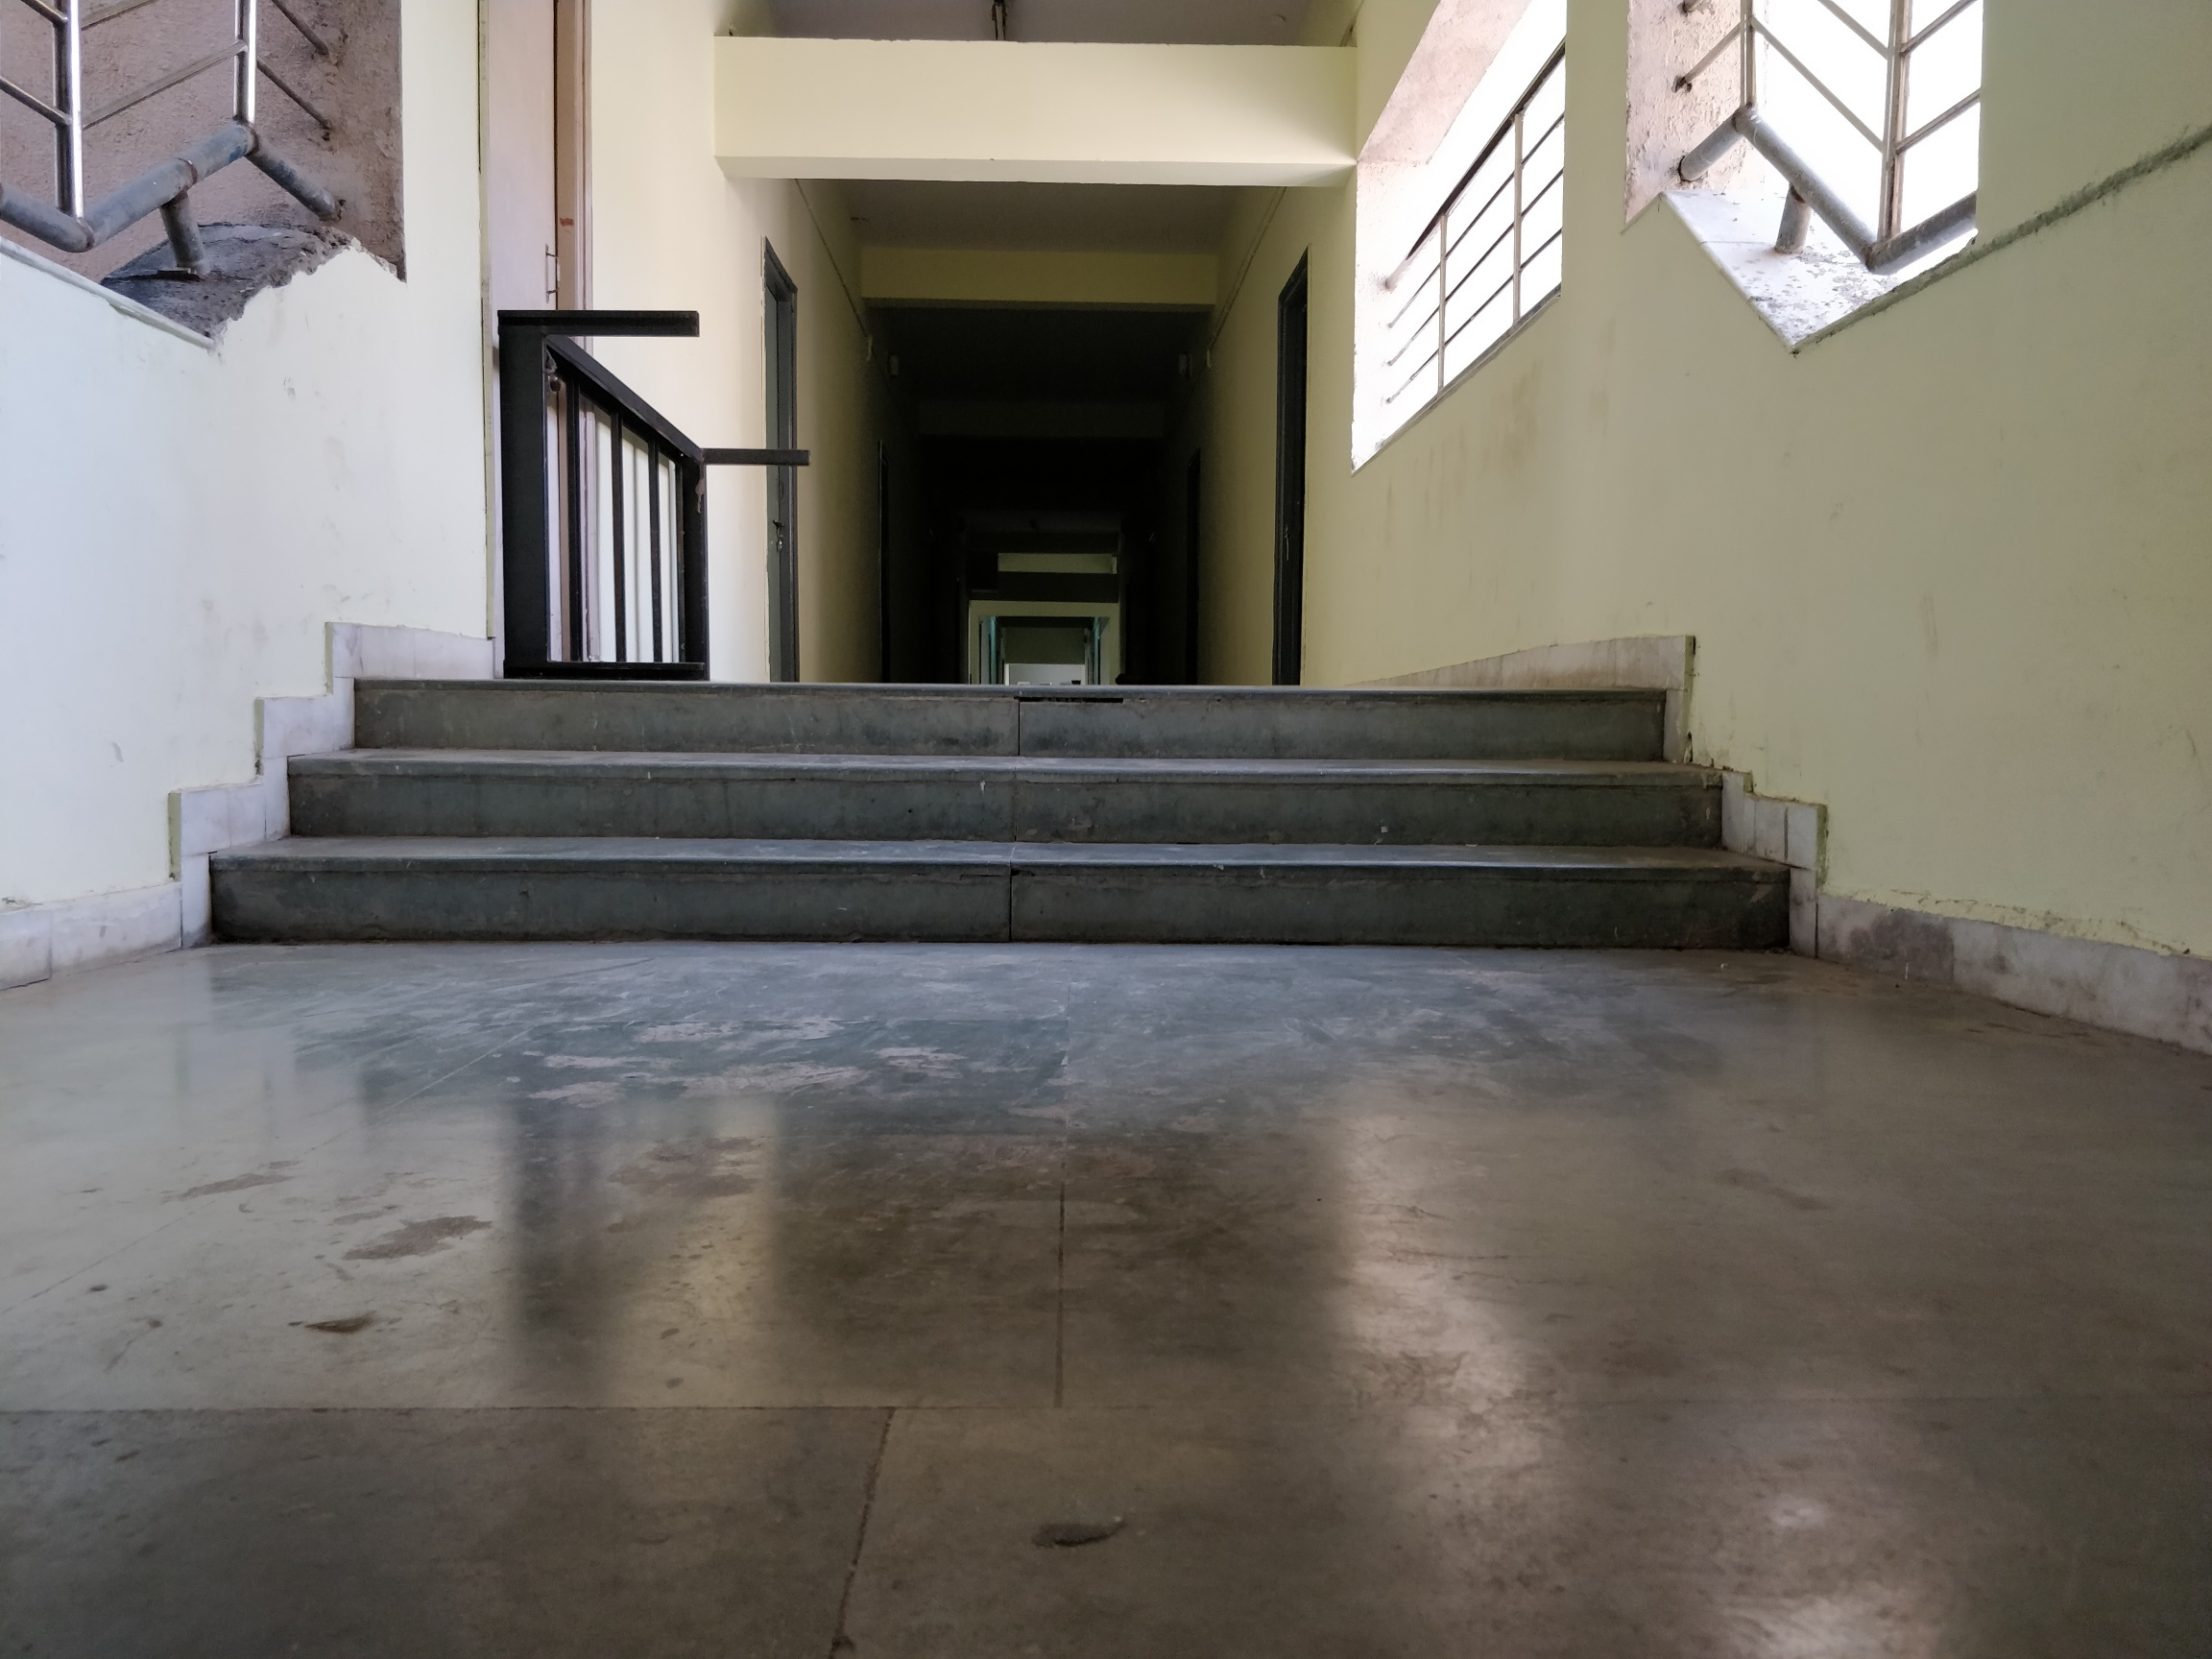stairs_up: (193, 676, 1811, 967)
